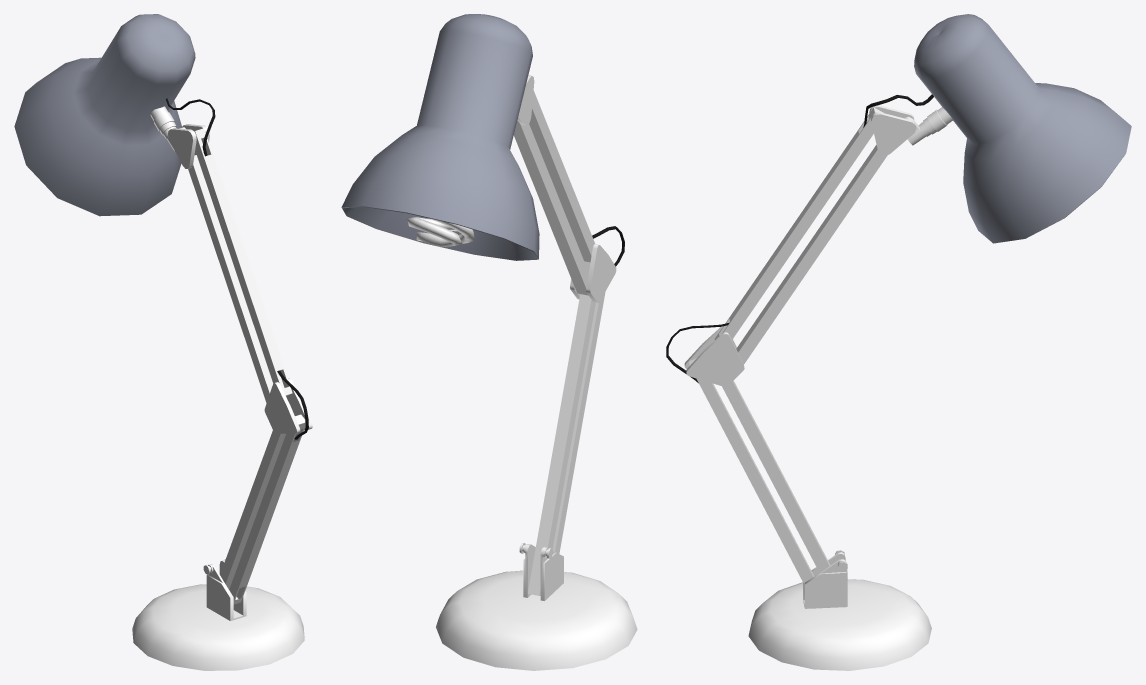
The model's file is lamp.obj.
3 renders of one model, left to right at view 1: azimuth 30°, elevation 25°; view 2: azimuth 150°, elevation 25°; view 3: azimuth 270°, elevation 25°, orthographic. The views are drawn at different scales.
Parts seen in each view (by area): view 1: LP_01_Mesh.046, Cylinder001_Mesh, LP01_Mesh.010, Box009_Mesh.004, Box055_Mesh.009, Box060_Mesh.012, LP01_lowpart_Mesh.045, Plane013_Mesh.020, Cylinder071_Mesh.019, 02LP_Mesh.006; view 2: LP_01_Mesh.046, Cylinder001_Mesh, Box060_Mesh.012, Box009_Mesh.004, LP01_Mesh.010, Box055_Mesh.009, LP01_lowpart_Mesh.045, Helix007_Mesh.015, Plane013_Mesh.020, Cylinder071_Mesh.019; view 3: LP_01_Mesh.046, Cylinder001_Mesh, LP01_Mesh.010, Box009_Mesh.004, Box055_Mesh.009, Box060_Mesh.012, LP01_lowpart_Mesh.045, Plane009_Mesh.003, Cylinder018_Mesh.005, 02LP_Mesh.006.
Boxes of the visible parts, left/top/right/bottom form: LP_01_Mesh.046: left=14, top=14, right=195, bottom=216; Cylinder001_Mesh: left=132, top=584, right=304, bottom=670; LP01_Mesh.010: left=194, top=128, right=292, bottom=395; Box009_Mesh.004: left=188, top=155, right=273, bottom=402; Box055_Mesh.009: left=229, top=414, right=305, bottom=604; Box060_Mesh.012: left=220, top=430, right=285, bottom=589; LP01_lowpart_Mesh.045: left=203, top=559, right=246, bottom=620; Plane013_Mesh.020: left=264, top=382, right=300, bottom=433; Cylinder071_Mesh.019: left=168, top=128, right=196, bottom=168; 02LP_Mesh.006: left=150, top=106, right=185, bottom=151; LP_01_Mesh.046: left=341, top=14, right=539, bottom=260; Cylinder001_Mesh: left=436, top=570, right=637, bottom=670; Box060_Mesh.012: left=527, top=294, right=595, bottom=595; Box009_Mesh.004: left=514, top=121, right=588, bottom=295; LP01_Mesh.010: left=529, top=91, right=595, bottom=262; Box055_Mesh.009: left=552, top=292, right=605, bottom=553; LP01_lowpart_Mesh.045: left=519, top=543, right=563, bottom=600; Helix007_Mesh.015: left=407, top=217, right=474, bottom=247; Plane013_Mesh.020: left=586, top=244, right=616, bottom=302; Cylinder071_Mesh.019: left=517, top=75, right=534, bottom=125; LP_01_Mesh.046: left=914, top=14, right=1131, bottom=243; Cylinder001_Mesh: left=748, top=579, right=931, bottom=670; LP01_Mesh.010: left=714, top=107, right=883, bottom=339; Box009_Mesh.004: left=736, top=145, right=887, bottom=364; Box055_Mesh.009: left=689, top=358, right=814, bottom=584; Box060_Mesh.012: left=722, top=380, right=830, bottom=572; LP01_lowpart_Mesh.045: left=803, top=550, right=847, bottom=608; Plane009_Mesh.003: left=686, top=332, right=744, bottom=386; Cylinder018_Mesh.005: left=871, top=112, right=916, bottom=155; 02LP_Mesh.006: left=904, top=107, right=952, bottom=145.
Size of the model in its own units: 0.5932 by 1.91 by 1.33.
